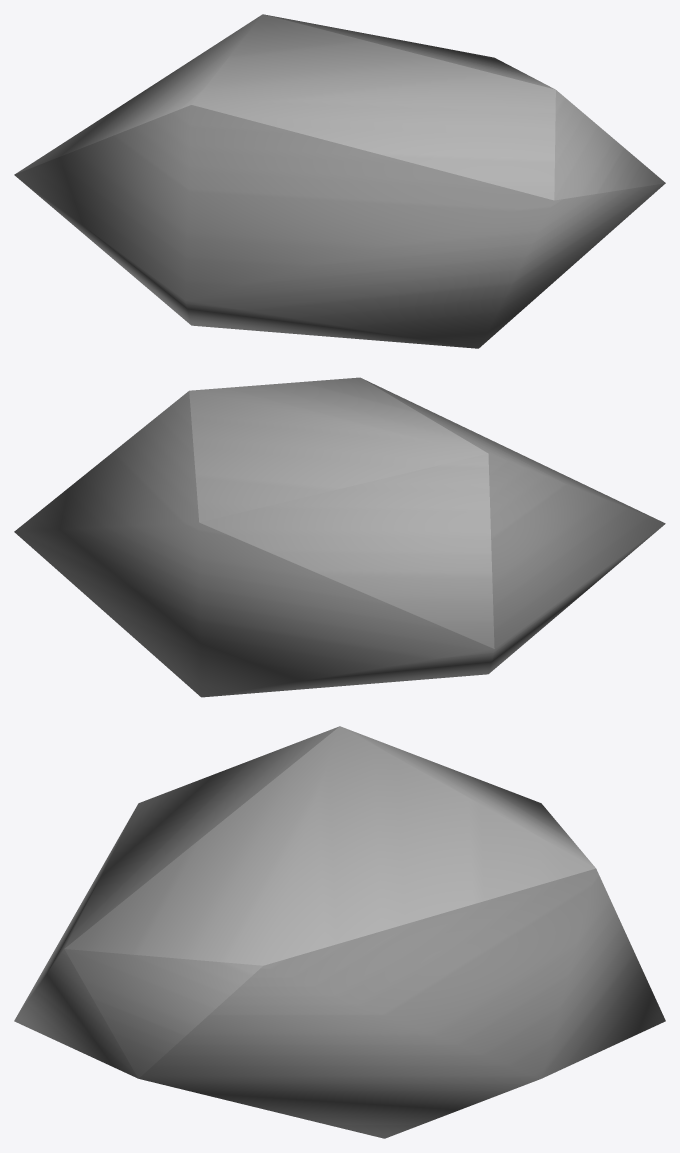
The model's file is GL-Rock-03.fbx.
The picture shows the model from 3 angles, top to bottom: view 1: azimuth 30°, elevation 25°; view 2: azimuth 150°, elevation 25°; view 3: azimuth 270°, elevation 25°; orthographic projection. The views are drawn at different scales.
Parts seen in each view (by area): view 1: GL-Rock-03; view 2: GL-Rock-03; view 3: GL-Rock-03.
Boxes of the visible parts, bbox=[...] form: GL-Rock-03: bbox=[14, 14, 665, 348]; GL-Rock-03: bbox=[14, 377, 665, 697]; GL-Rock-03: bbox=[14, 726, 665, 1138].
Bounding box in the file's own units: 1.85 × 0.811 × 1.85.
